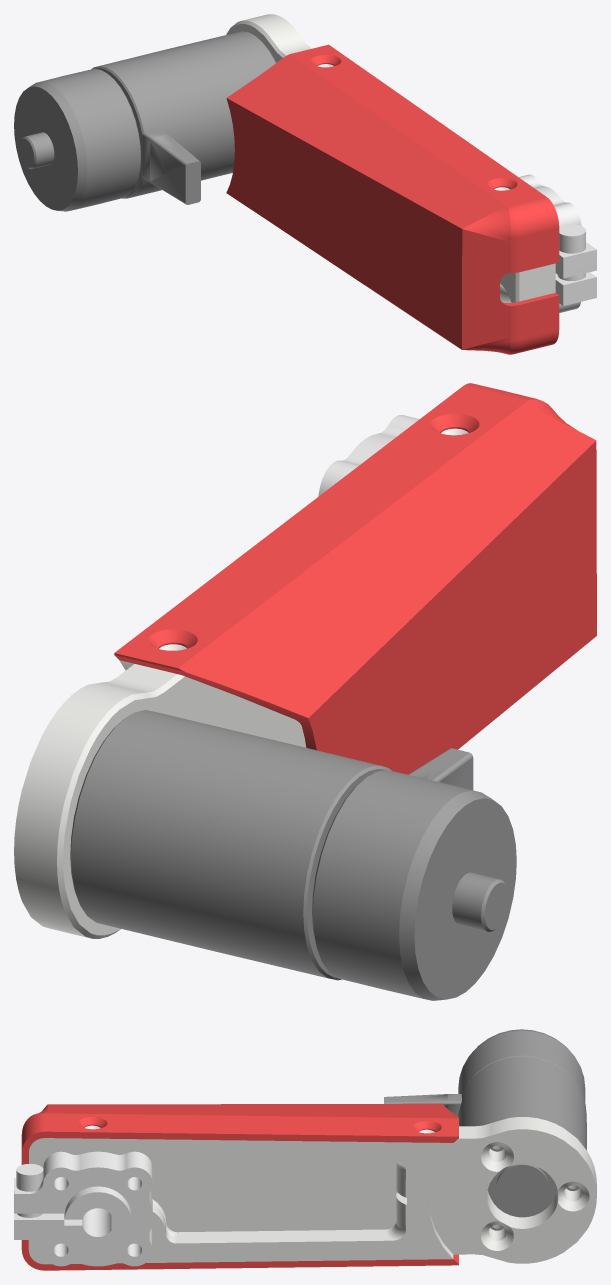
Rendered from upper_leg_right_rear.obj.
3 renders of one model, top to bottom at view 1: azimuth 30°, elevation 25°; view 2: azimuth 150°, elevation 25°; view 3: azimuth 270°, elevation 25°, orthographic. The views are drawn at different scales.
Visible parts, largest first — view 1: upperleg.005; view 2: upperleg.005; view 3: upperleg.005.
Boxes of the visible parts, <box> form: upperleg.005: <box>14,14,596,354</box>; upperleg.005: <box>14,383,596,1000</box>; upperleg.005: <box>14,1029,596,1270</box>.
Size of the model in its own units: 0.0656 by 0.0289 by 0.1098.
